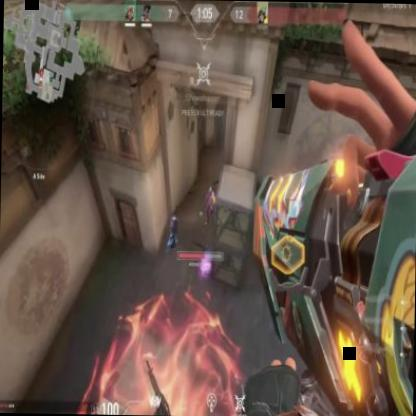enemy: (204, 184, 216, 226)
enemy_head: (209, 186, 212, 194)
